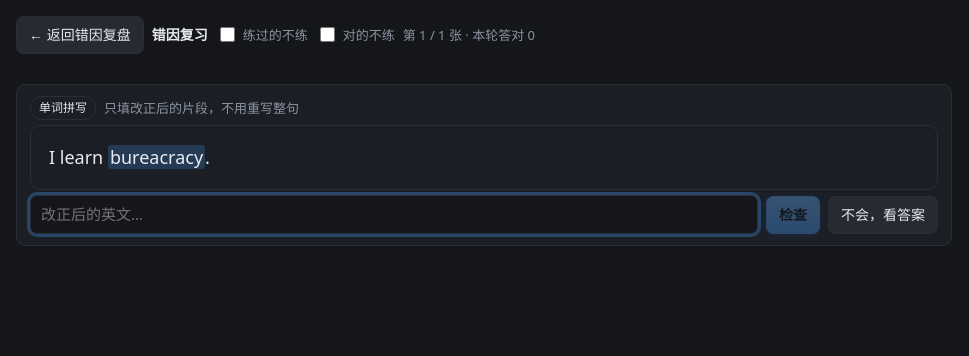
Test case: GoldenErrorReview › 答错 / 看答案都记录 false，并显示正确写法
In the field named "错因答案": (394, 215) left=30, top=195, right=758, bottom=234, type "bur"
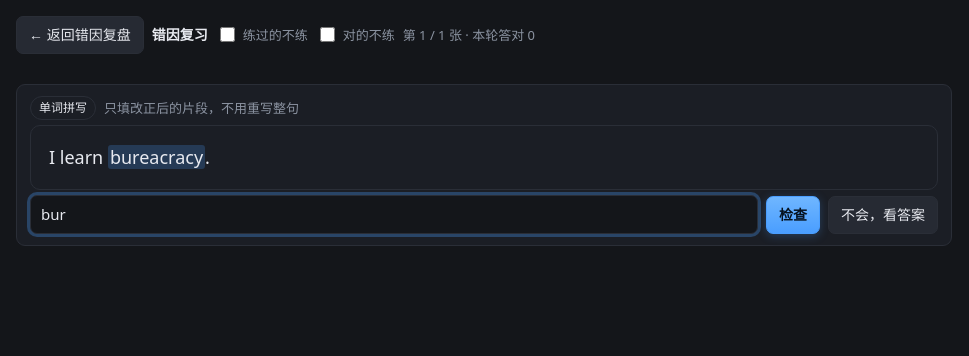
Click the button "检查": (793, 215) left=766, top=196, right=820, bottom=234
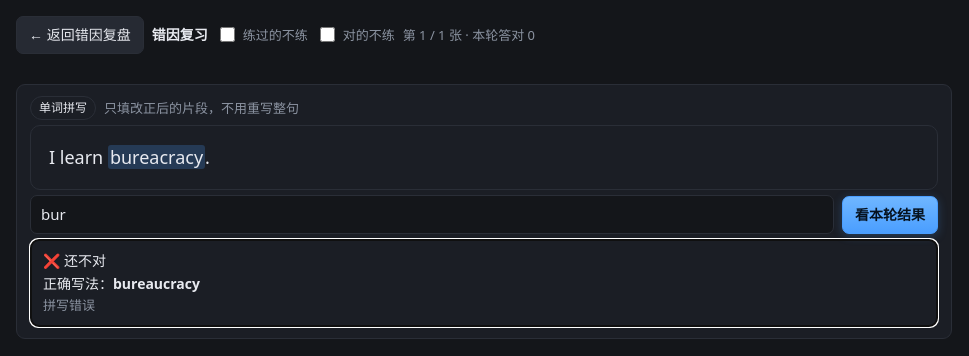
Expected: the text "bureaucracy" is shown, left=113, top=274, right=200, bottom=292
Click the button "看本轮结果": (890, 215) left=842, top=196, right=938, bottom=234
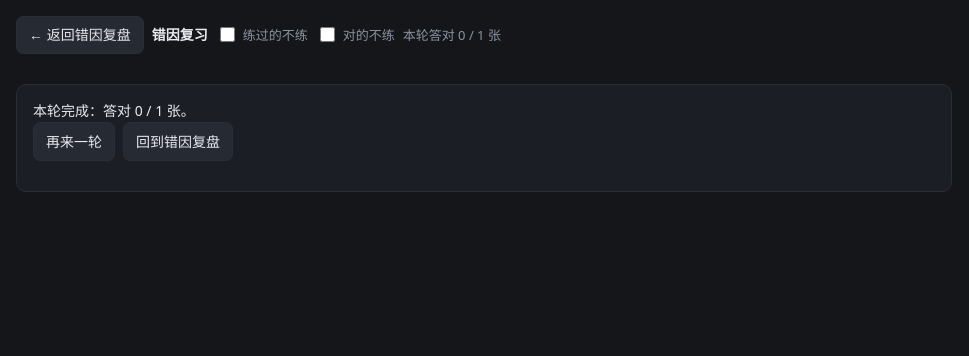
Expected: the text "本轮完成：答对 0 / 1 张。 再来一轮 回到错因复盘" is shown, left=16, top=84, right=952, bottom=192
